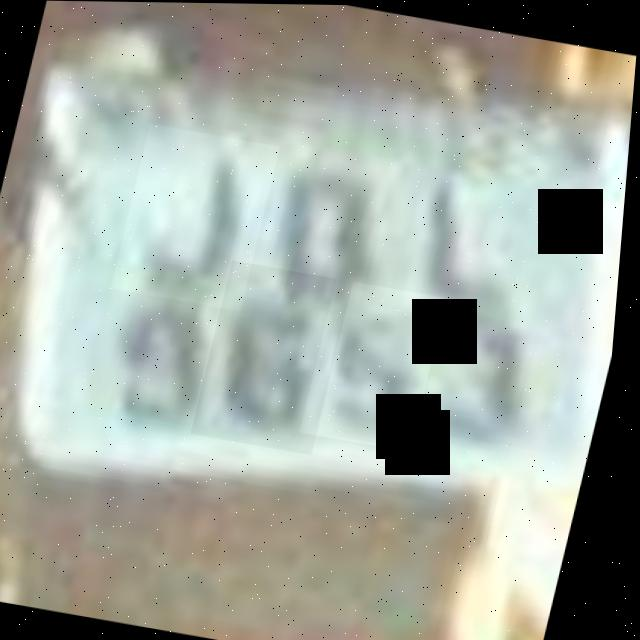5: (306, 277, 453, 451)
6: (197, 260, 359, 454)
B: (261, 142, 414, 313)
J: (114, 123, 283, 311), (405, 155, 552, 321)
